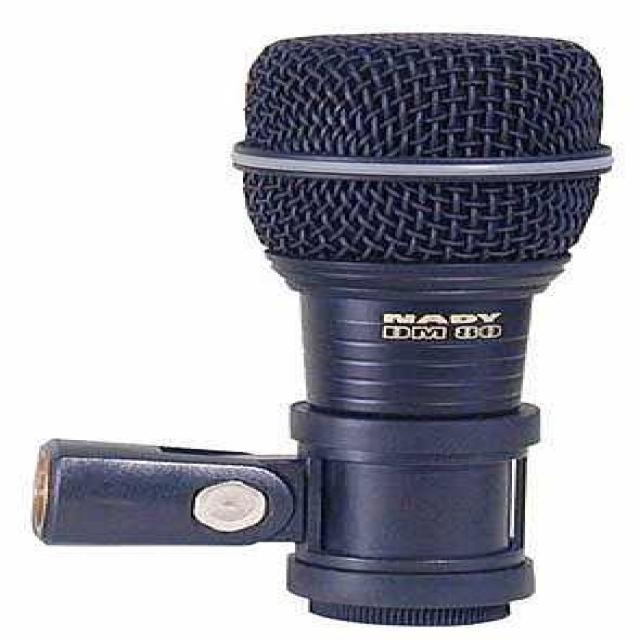microphone: (34, 35, 594, 624)
